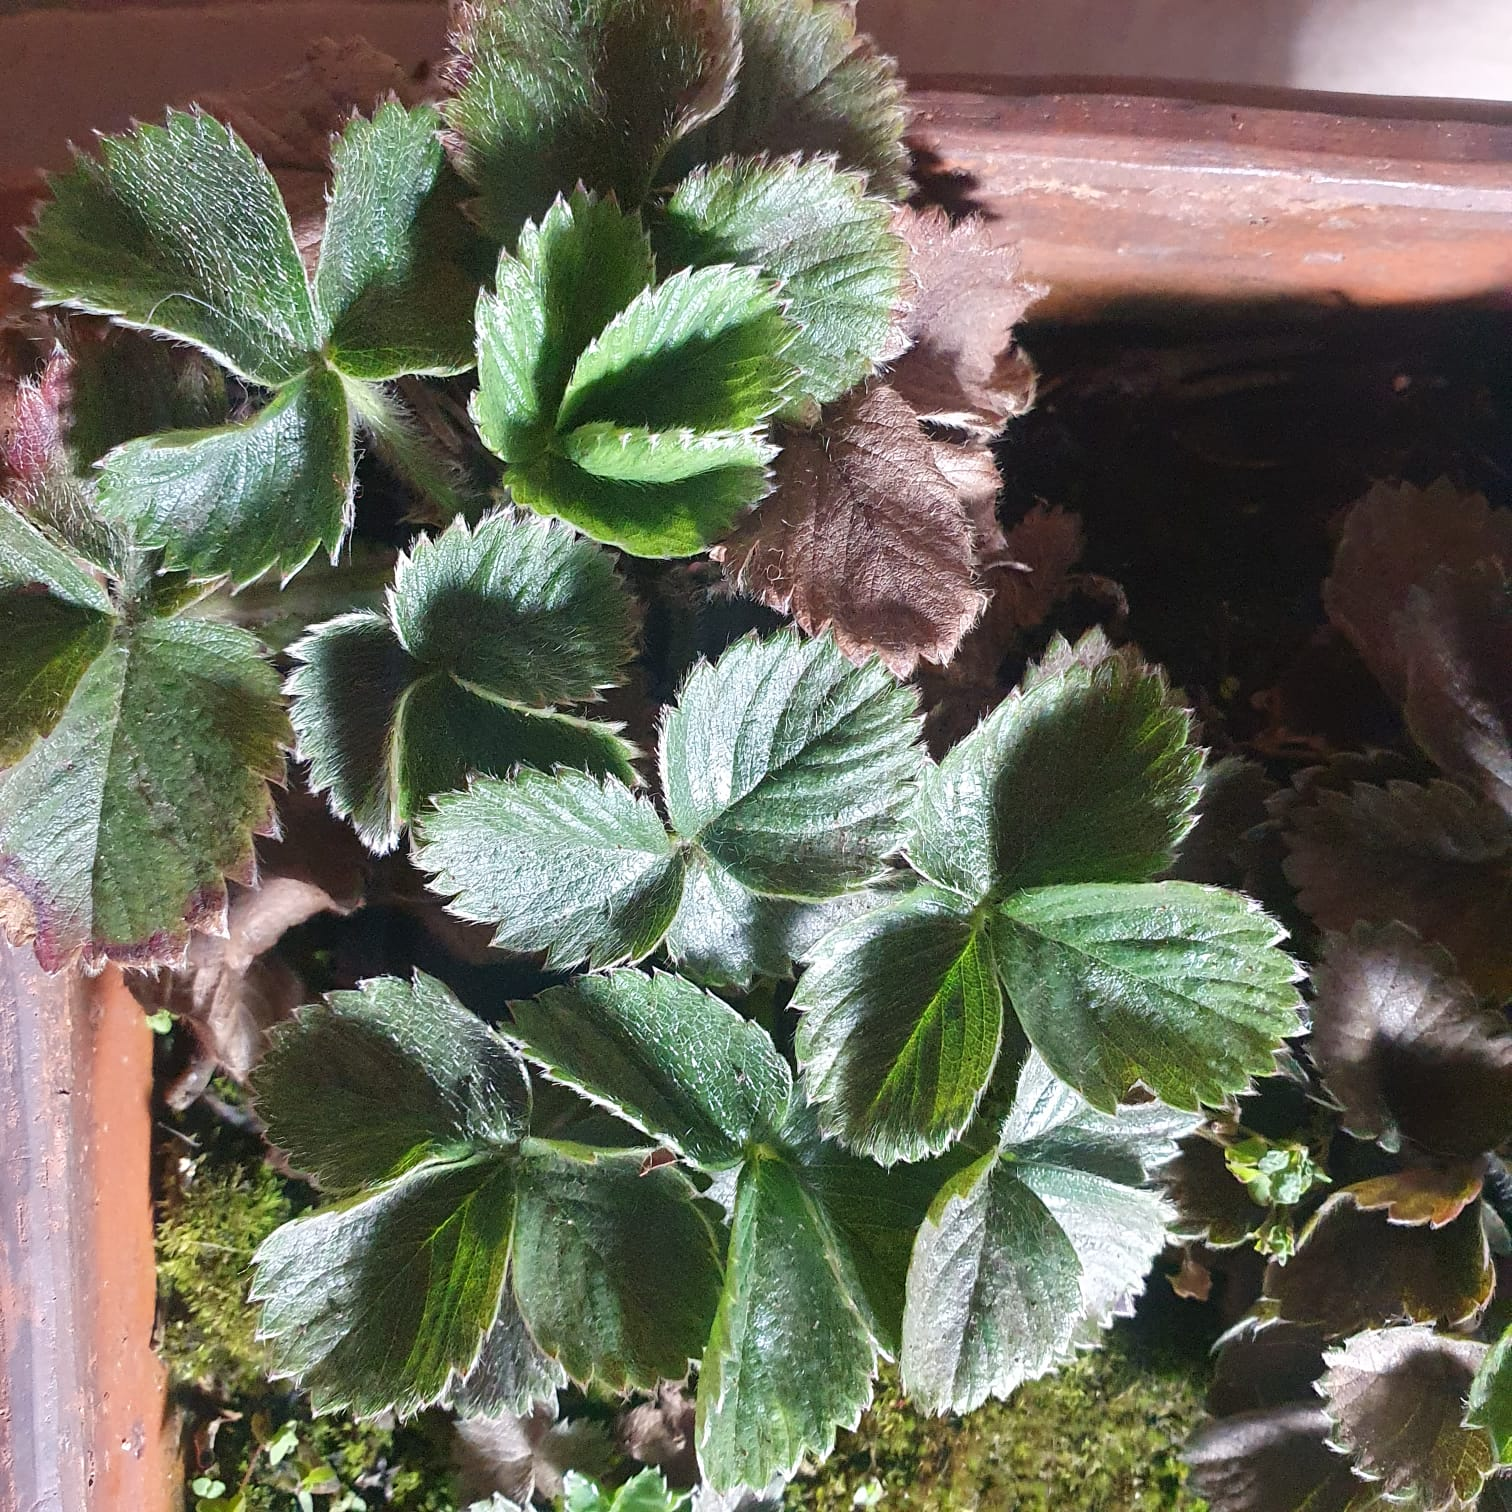sano: (442, 636, 1277, 1141)
